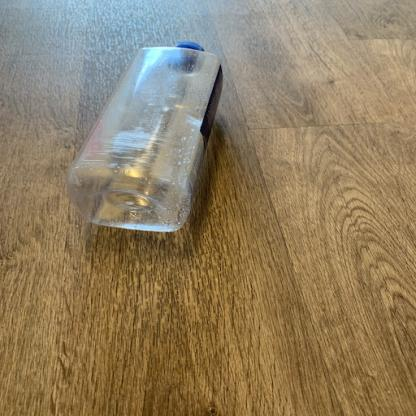trash: (63, 37, 225, 237)
